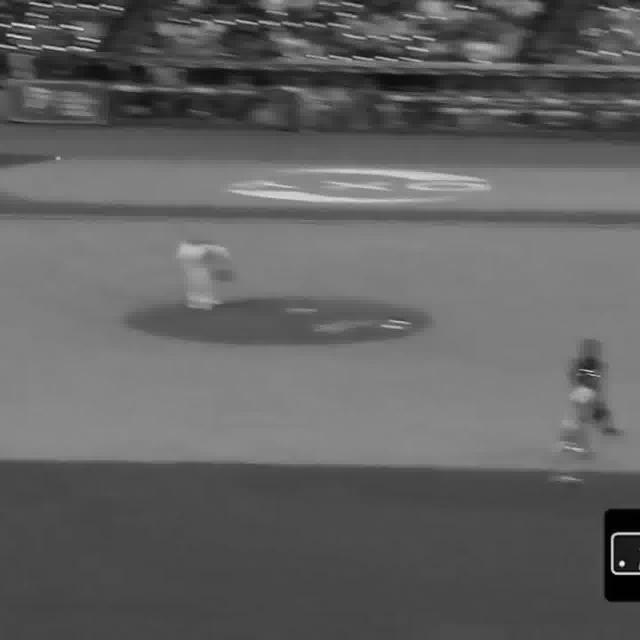baseball: (56, 155, 61, 161)
